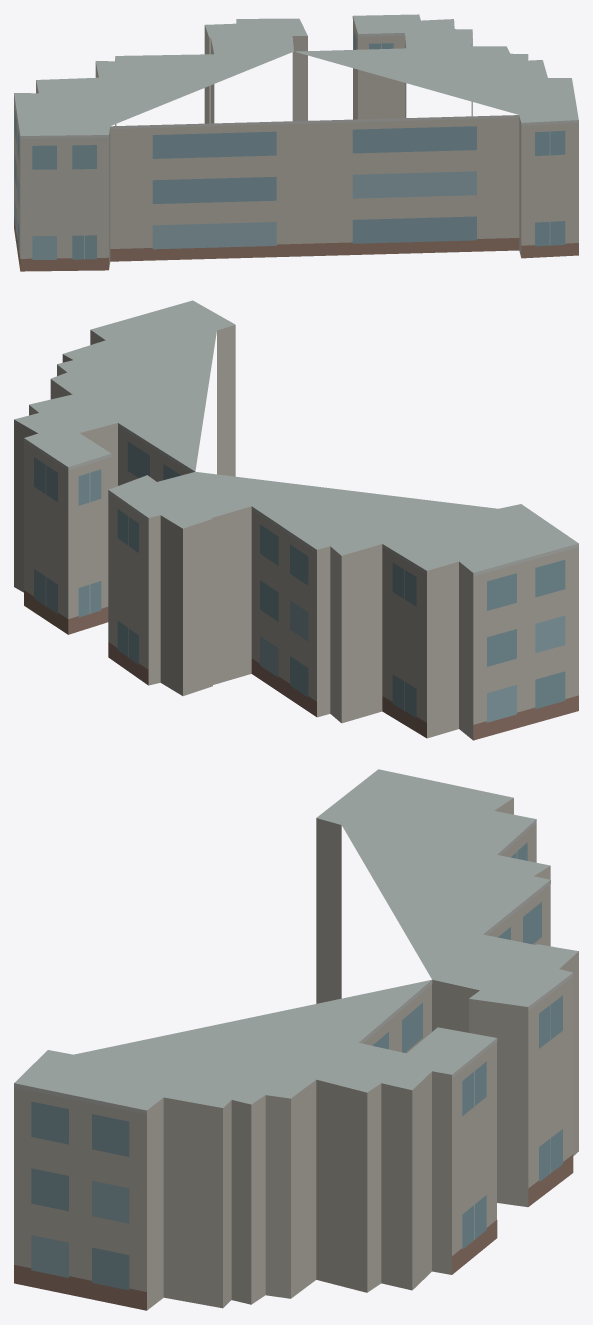
Rendered from survey-upis-32501964.glb.
3 views of the same model, one above another, from view 1: azimuth 30°, elevation 25°; view 2: azimuth 150°, elevation 25°; view 3: azimuth 270°, elevation 25° (orthographic). The views are drawn at different scales.
Parts seen in each view (by area): view 1: survey-upis-32501964.tmp; view 2: survey-upis-32501964.tmp; view 3: survey-upis-32501964.tmp.
Boxes of the visible parts, x1,y1,x2,y2 form: survey-upis-32501964.tmp: [14, 14, 578, 271]; survey-upis-32501964.tmp: [14, 300, 578, 740]; survey-upis-32501964.tmp: [14, 769, 578, 1310].
Size of the model in its own units: 43.7 by 11.95 by 30.56.
